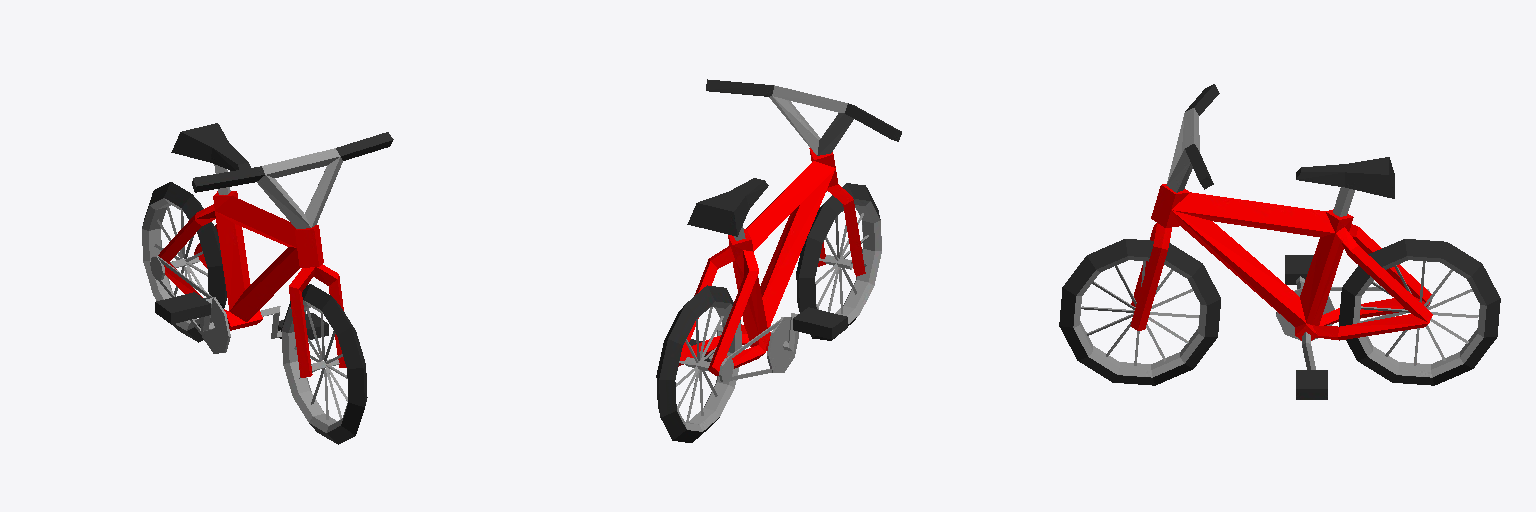
The picture shows the model from 3 angles: view 1: azimuth 30°, elevation 25°; view 2: azimuth 150°, elevation 25°; view 3: azimuth 270°, elevation 25°; orthographic projection.
Visible parts, largest first — view 1: Object_bicycle_diffuse.jpg; view 2: Object_bicycle_diffuse.jpg; view 3: Object_bicycle_diffuse.jpg.
Boxes of the visible parts, box(x1,y1,x2,y2) form: Object_bicycle_diffuse.jpg: box(142, 123, 393, 444); Object_bicycle_diffuse.jpg: box(656, 79, 901, 442); Object_bicycle_diffuse.jpg: box(1059, 84, 1500, 399).
Size of the model in its own units: 1.27 by 1.63 by 2.5.
4 materials, 1 textured.